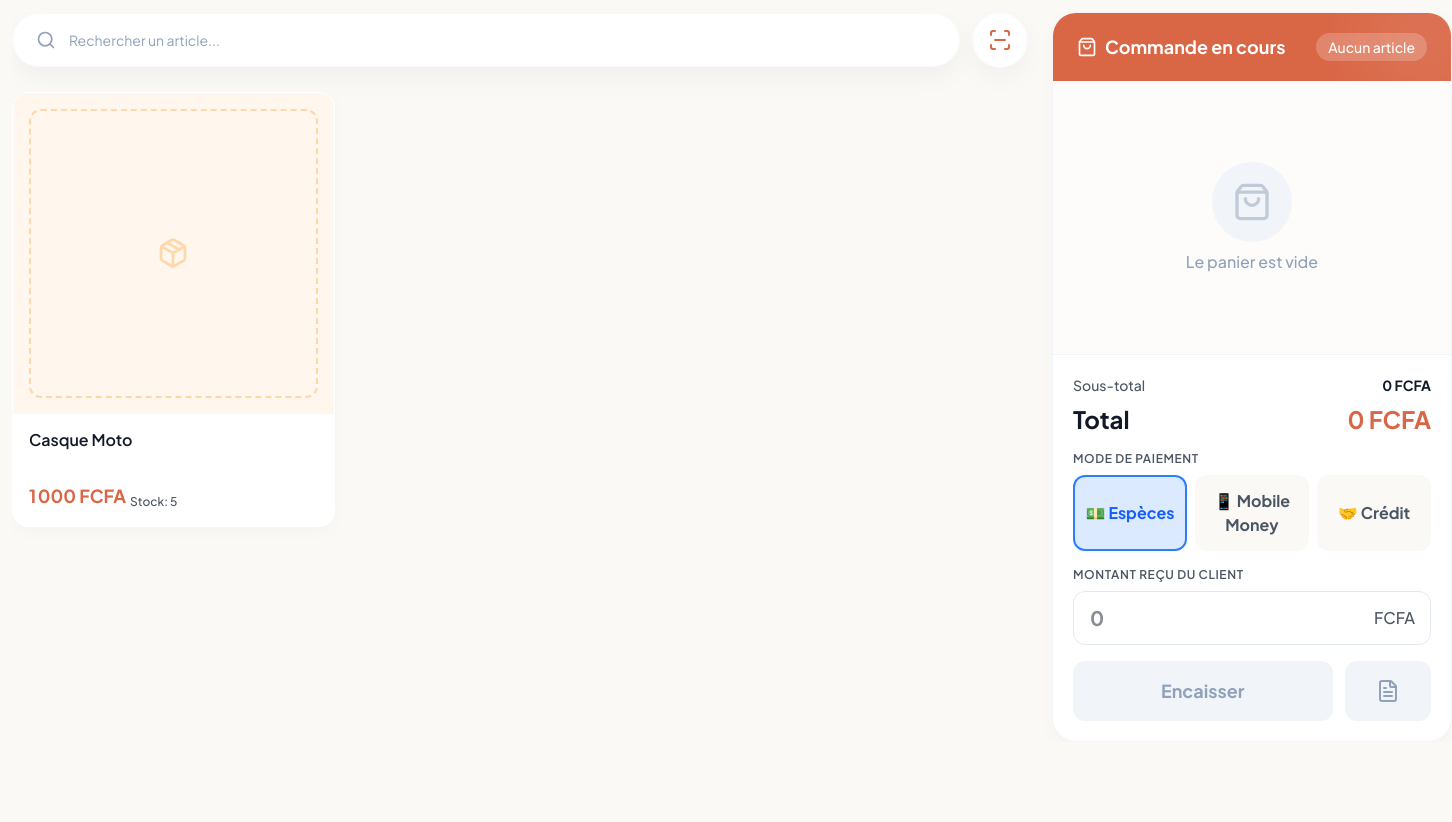
Test case: Caisse checkout › shows an error and keeps the cart when the RPC rejects (e.g. insufficient stock)
The width and height of the screenshot is (1452, 822).
Step 1. Click the text "Casque Moto" → click(81, 439), box [29,429,132,450]
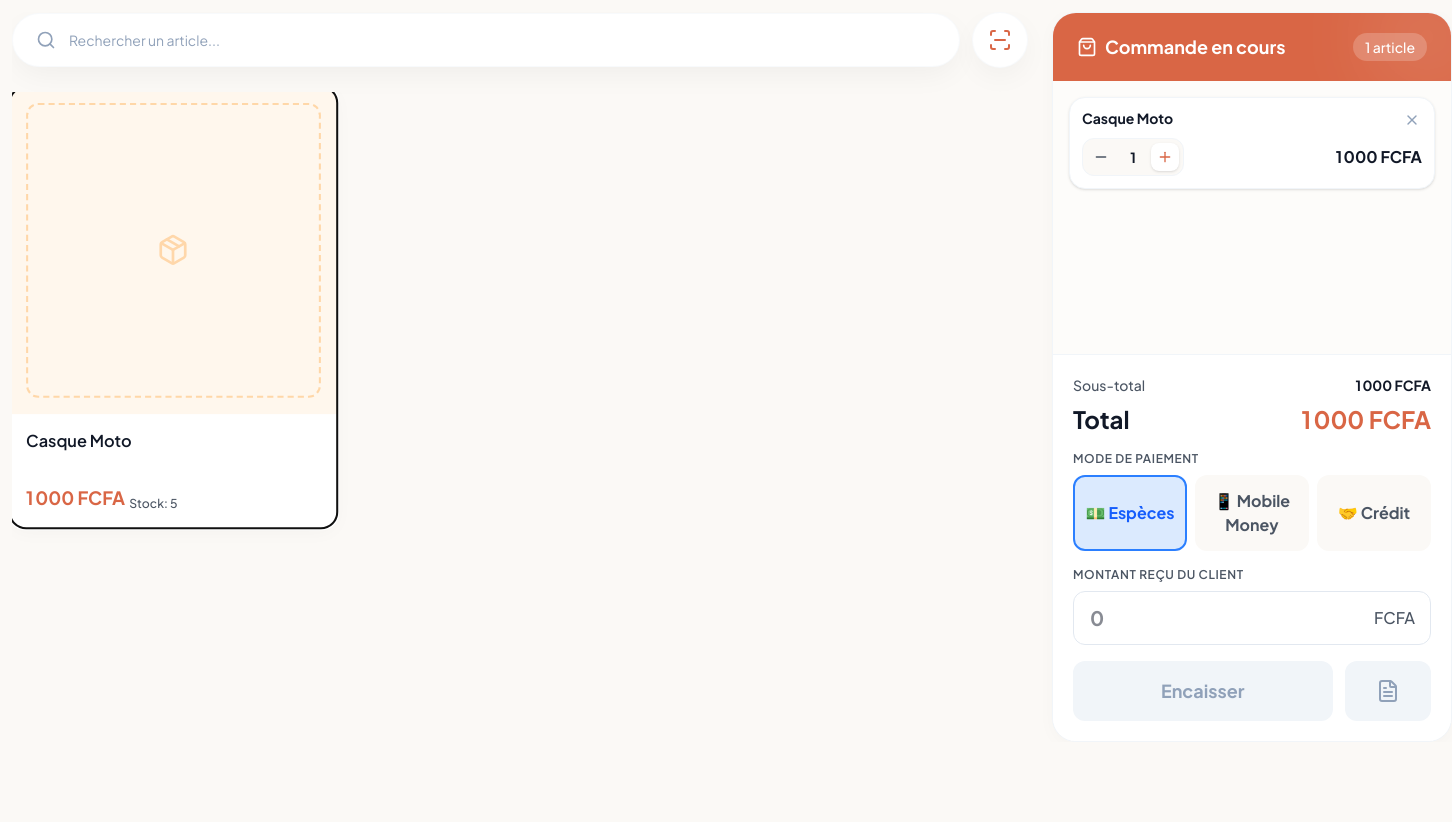
Step 2. Type "1000" into the number field with placeholder "0" → (1252, 618), box [1073,591,1431,645]
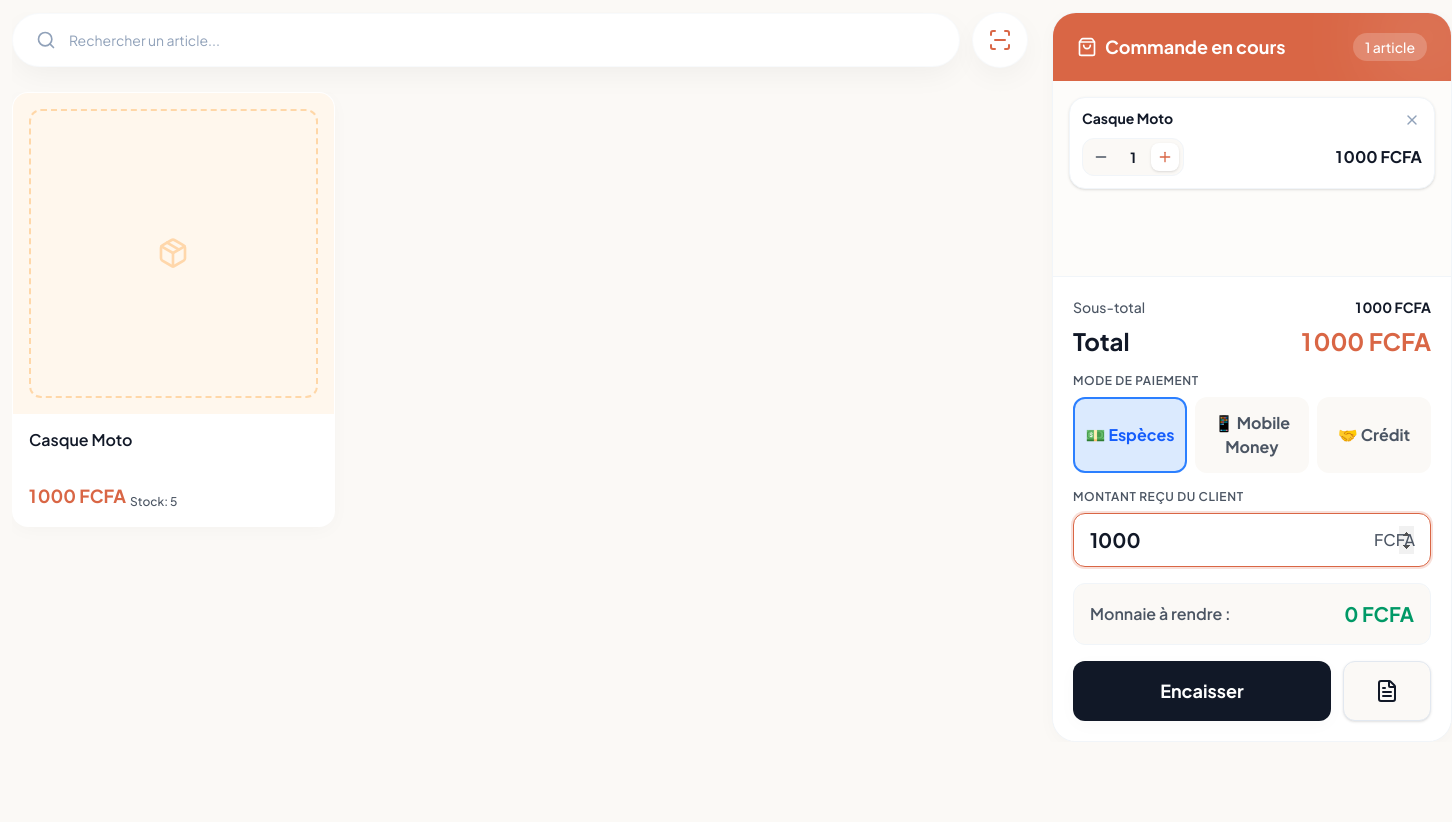
Step 3. Click the button "Encaisser" → click(1202, 691), box [1073,661,1331,721]
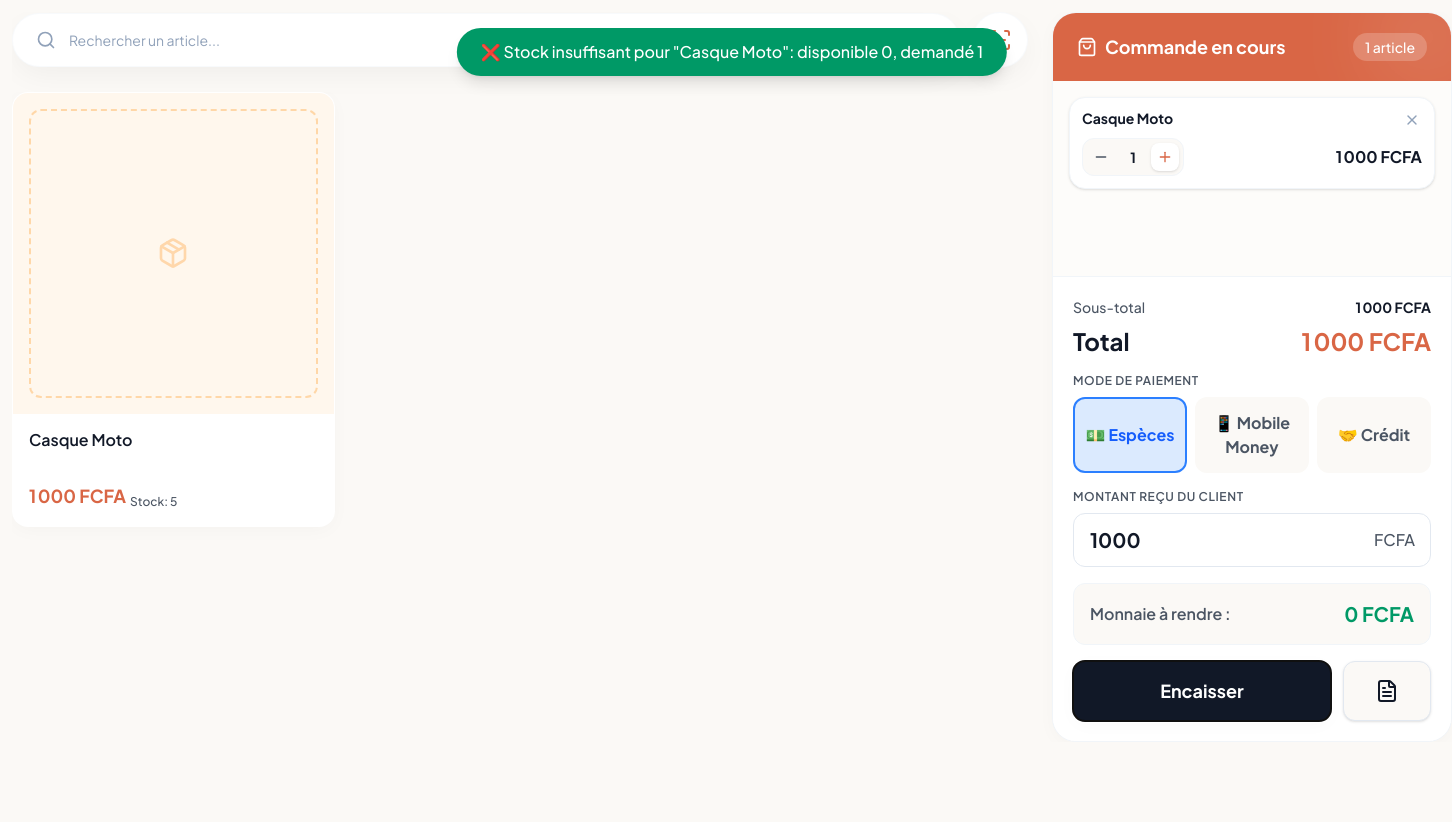
Check: the text "Le panier est vide" is not shown
Check: the text "Stock insuffisant pour \"Casque Moto\": disponible 0, demandé 1" is shown, box [481,41,983,62]
